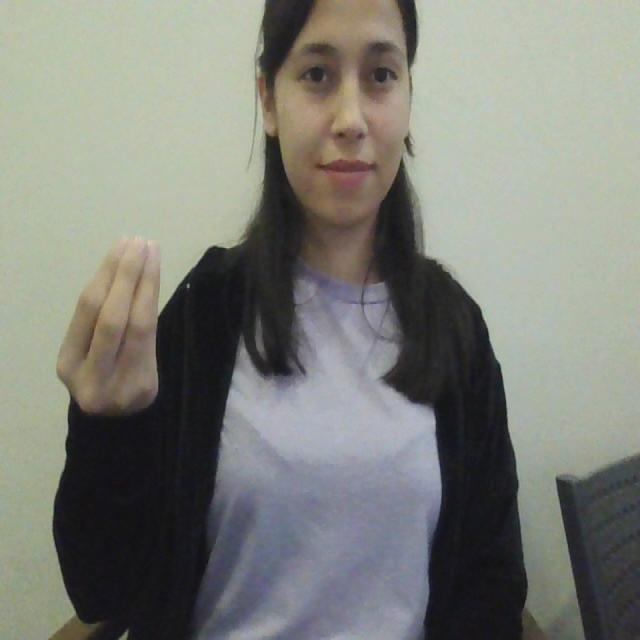iyi: (50, 222, 166, 420)
